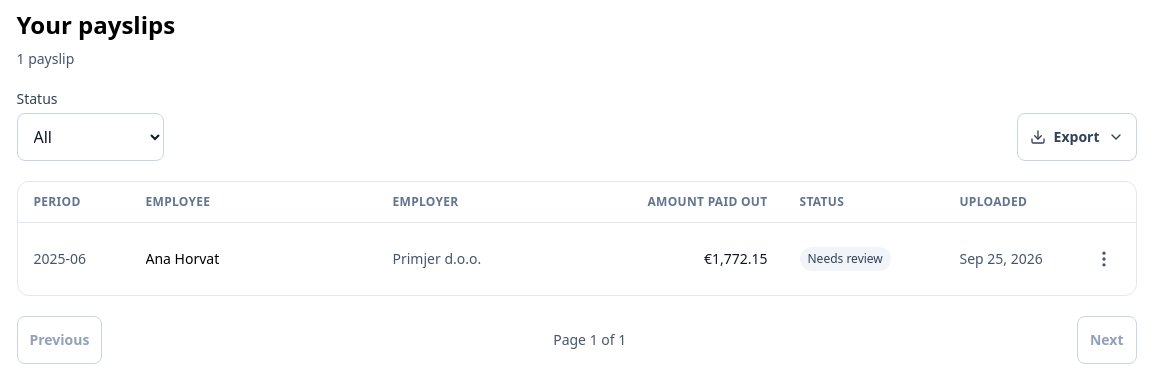
Test case: HistoryPage › offers only Delete for a payslip that is not confirmed
Click the button named "Actions for Ana Horvat" at (1104, 259), box [1080, 235, 1128, 283]
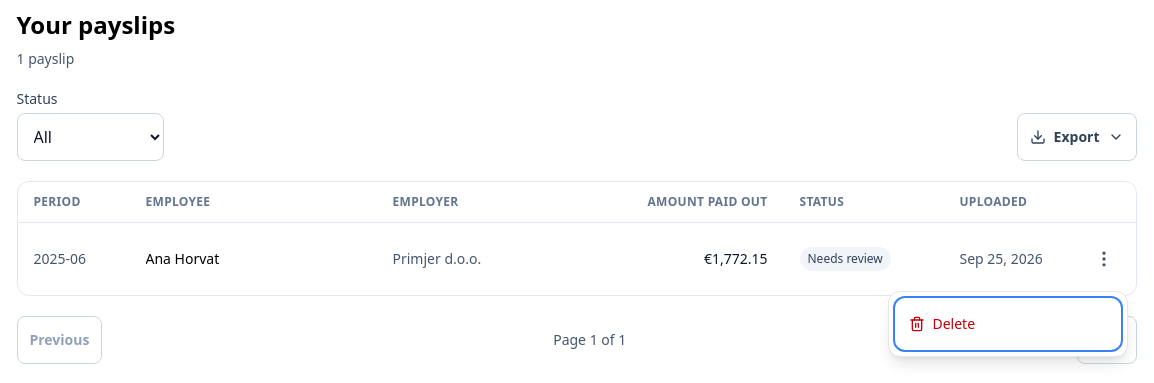
Check: the button "Delete" is shown, box [896, 300, 1118, 348]
